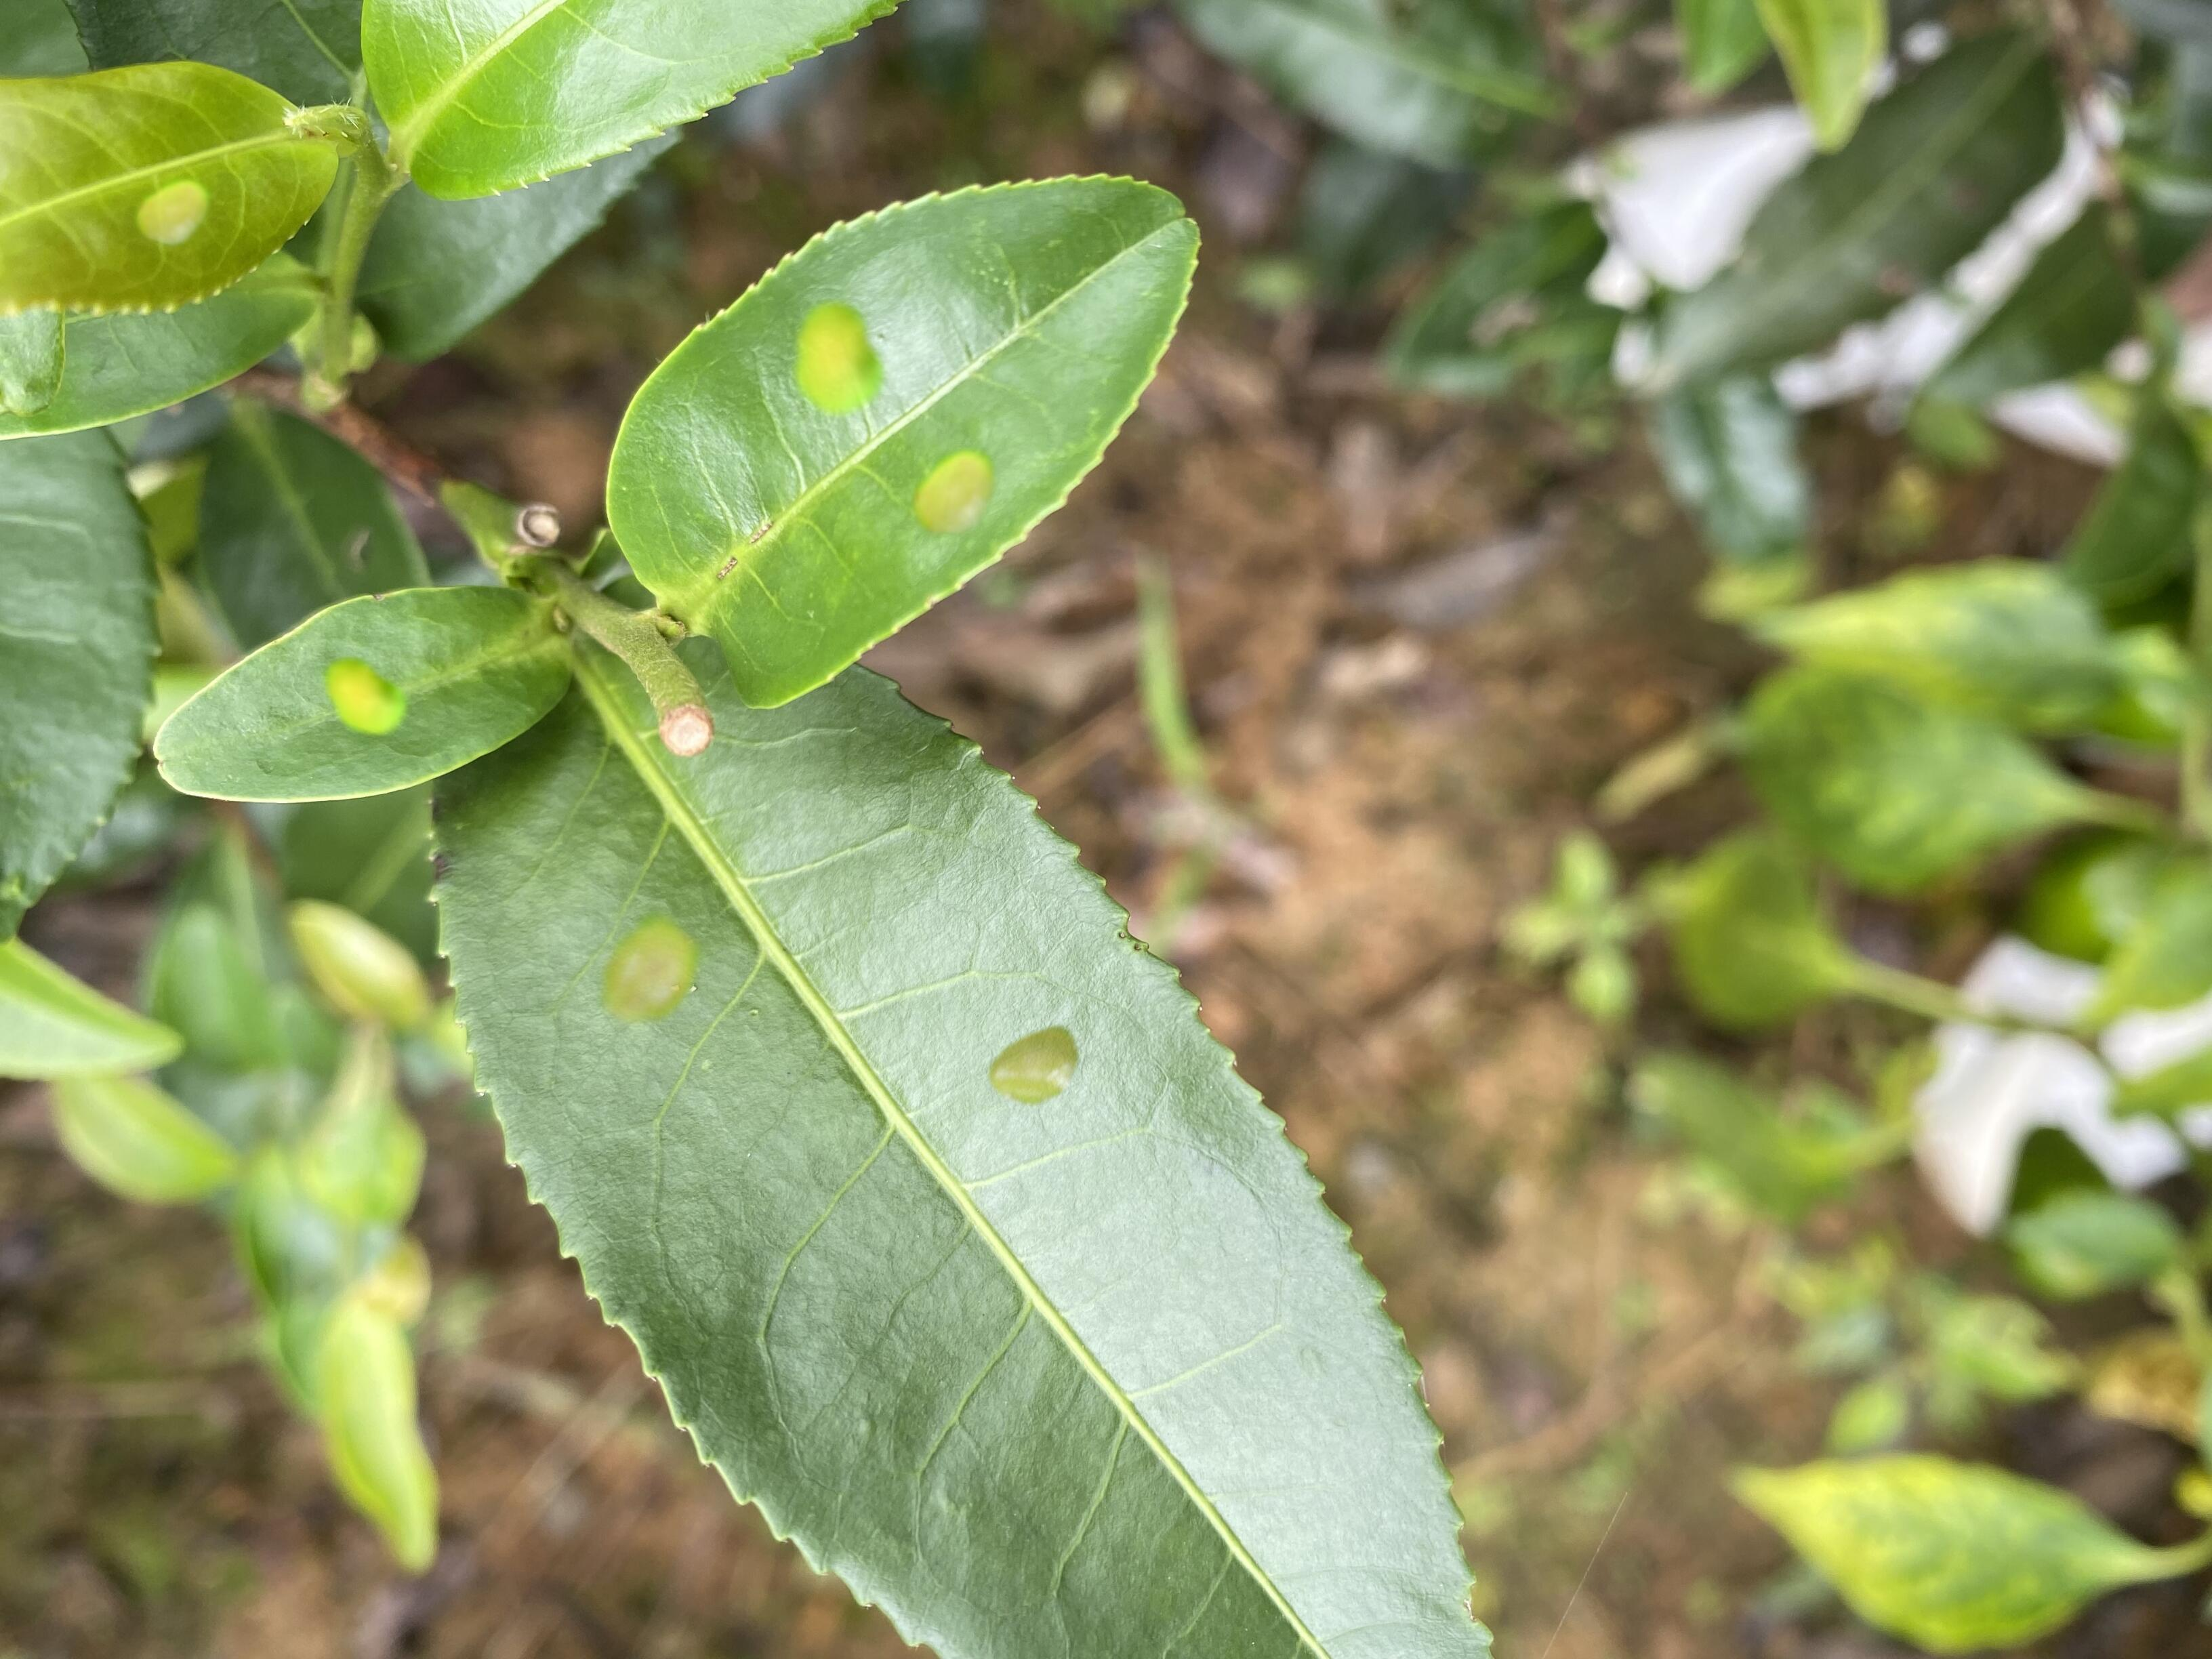chabing_high: (430, 627, 1494, 1652), (603, 173, 1204, 709)
chabing_low: (153, 584, 571, 803), (3, 59, 336, 310)
healthy: (355, 3, 900, 200)
